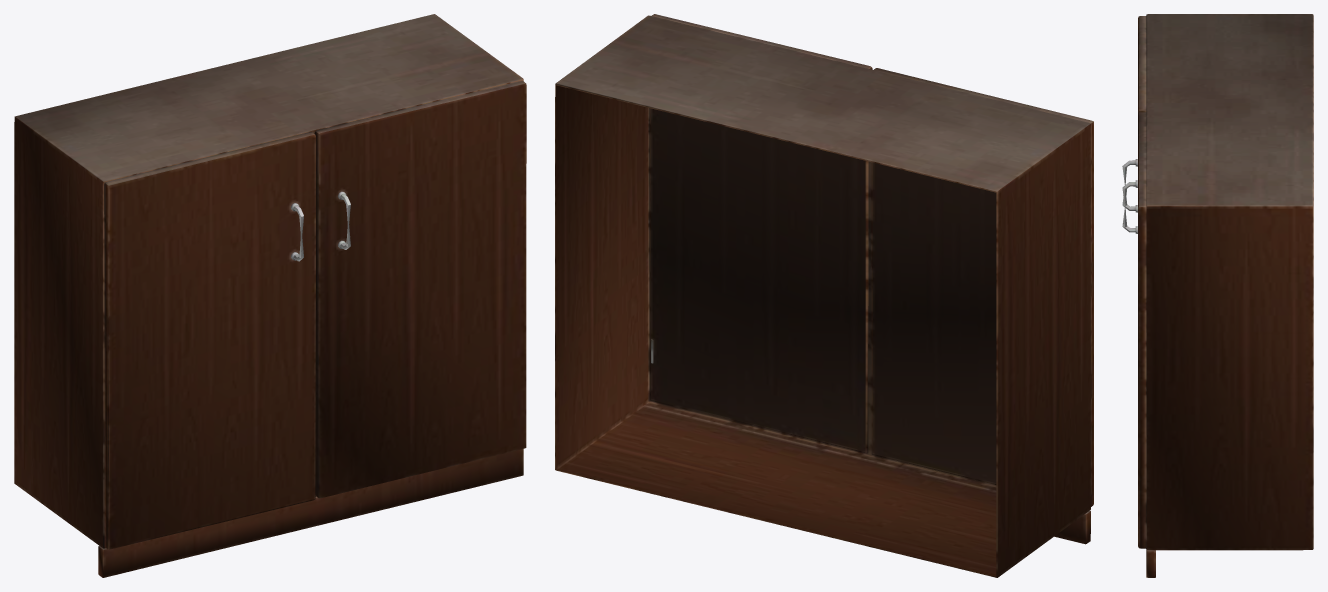
The model's file is kit_upper_90-low.glb.
The picture shows the model from 3 angles, left to right: view 1: azimuth 30°, elevation 25°; view 2: azimuth 150°, elevation 25°; view 3: azimuth 270°, elevation 25°; orthographic projection. The views are drawn at different scales.
Visible parts, largest first — view 1: kit_upper_90-low; view 2: kit_upper_90-low; view 3: kit_upper_90-low.
Part boxes in pixels (box(x1,y1,x2,y2)): kit_upper_90-low: box(14, 14, 526, 577); kit_upper_90-low: box(555, 14, 1093, 577); kit_upper_90-low: box(1122, 14, 1313, 577).
Size of the model in its own units: 0.8975 by 0.81 by 0.3768.
Materials: 1 (1 with a texture image).
